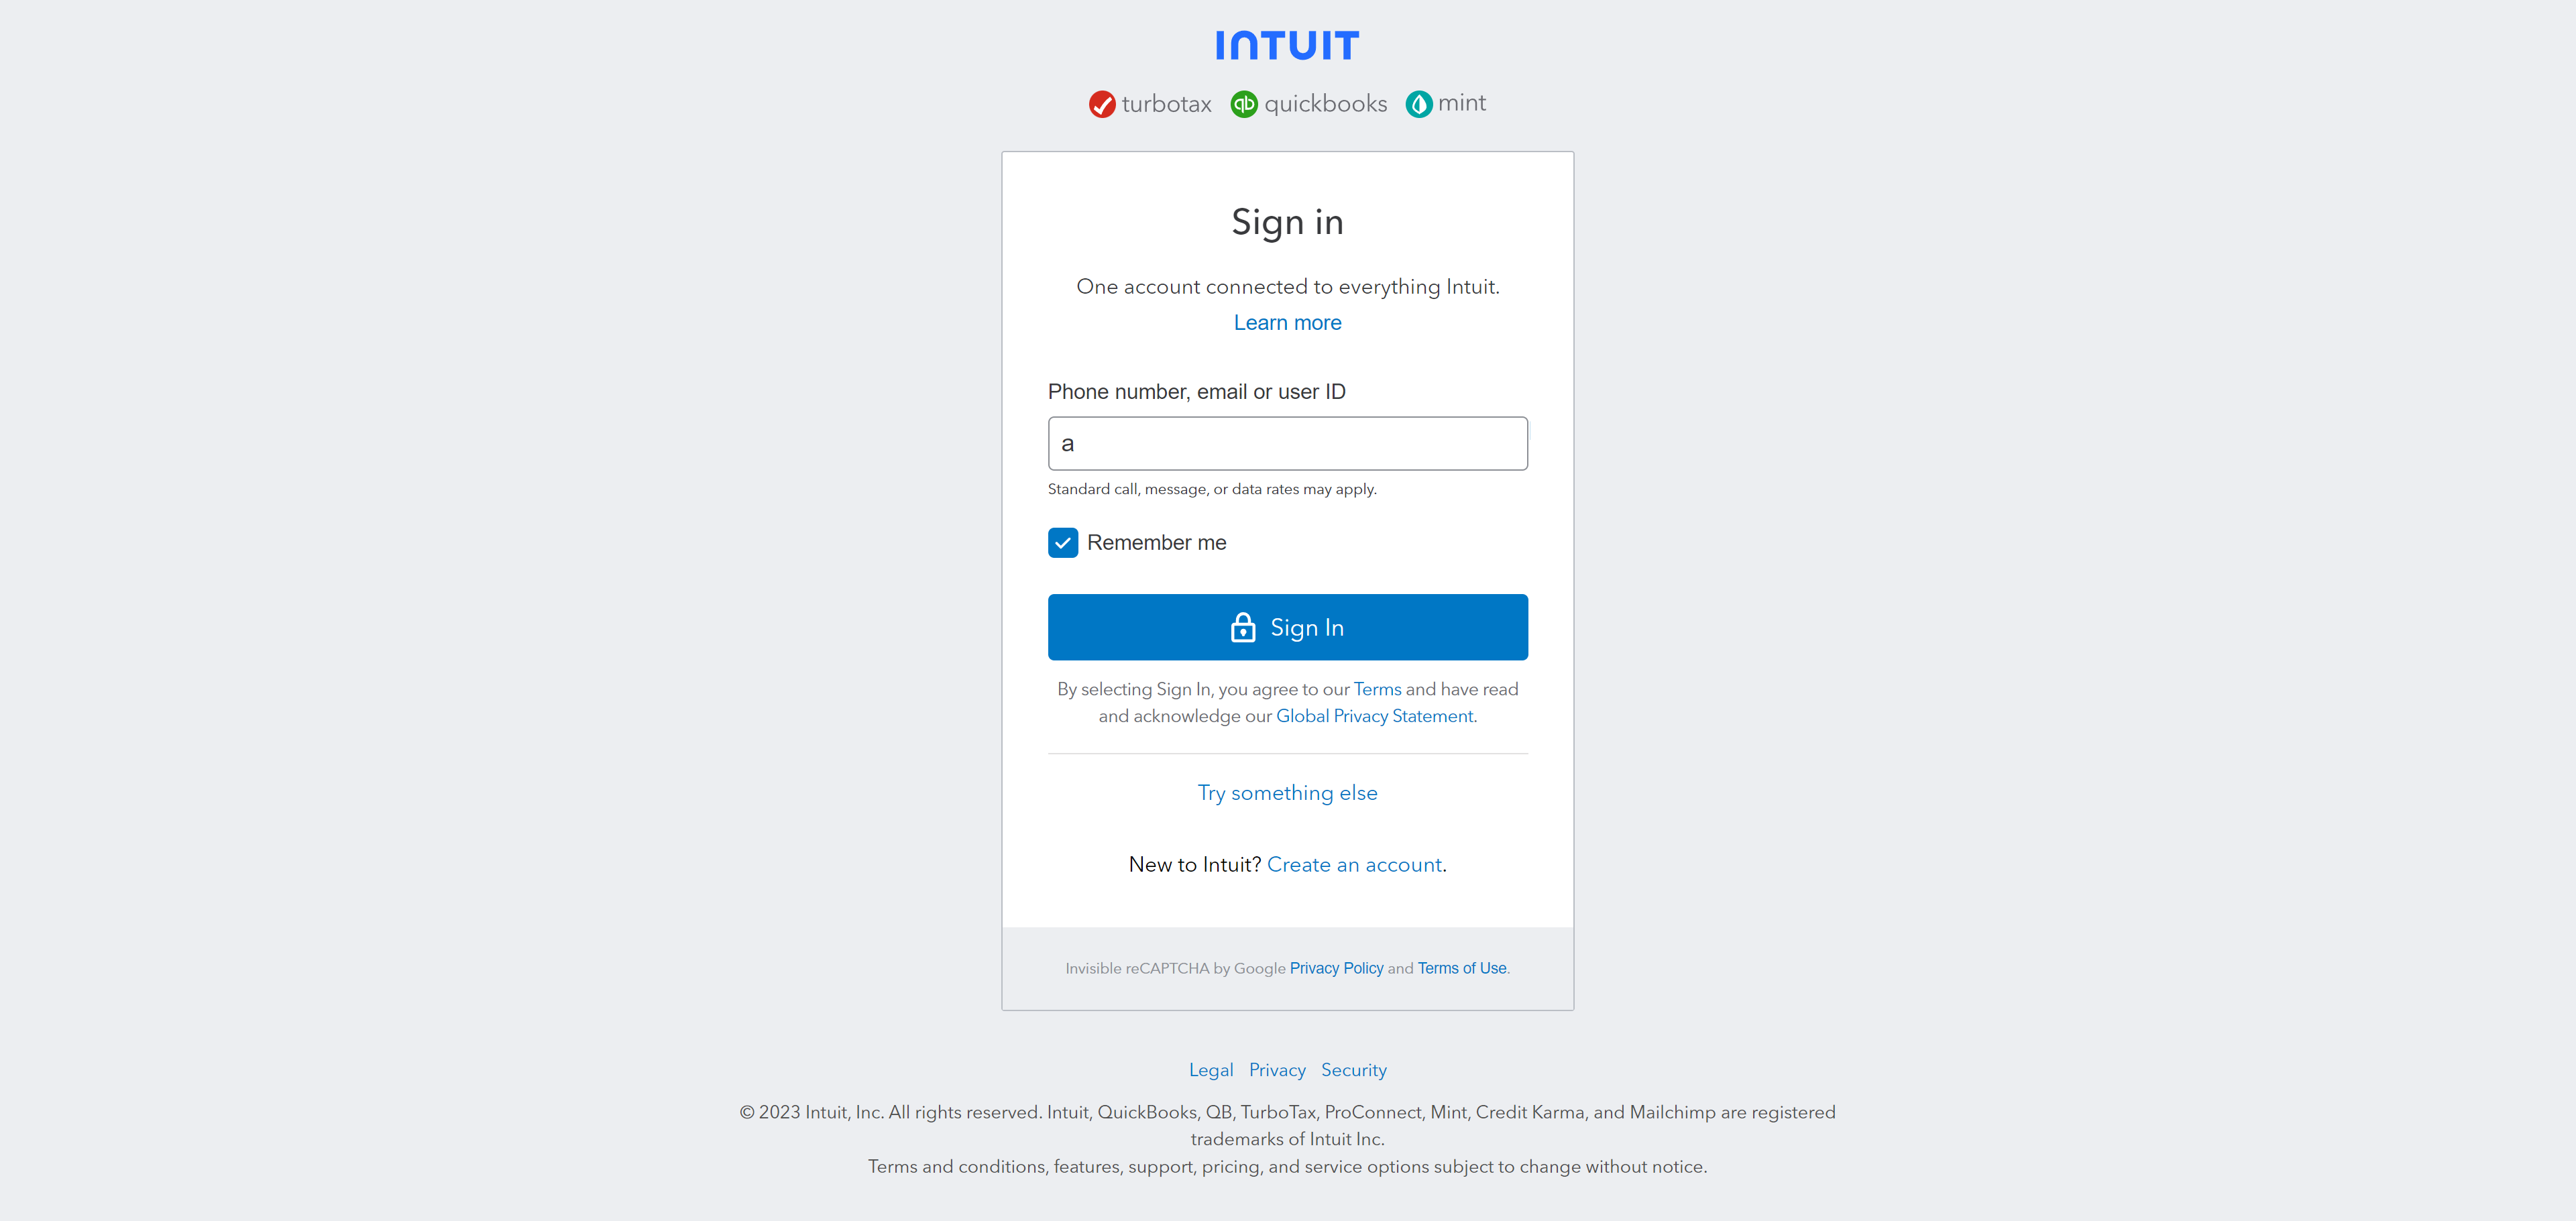login_button: (1048, 595, 1529, 659)
login_form: (1038, 378, 1539, 670)
